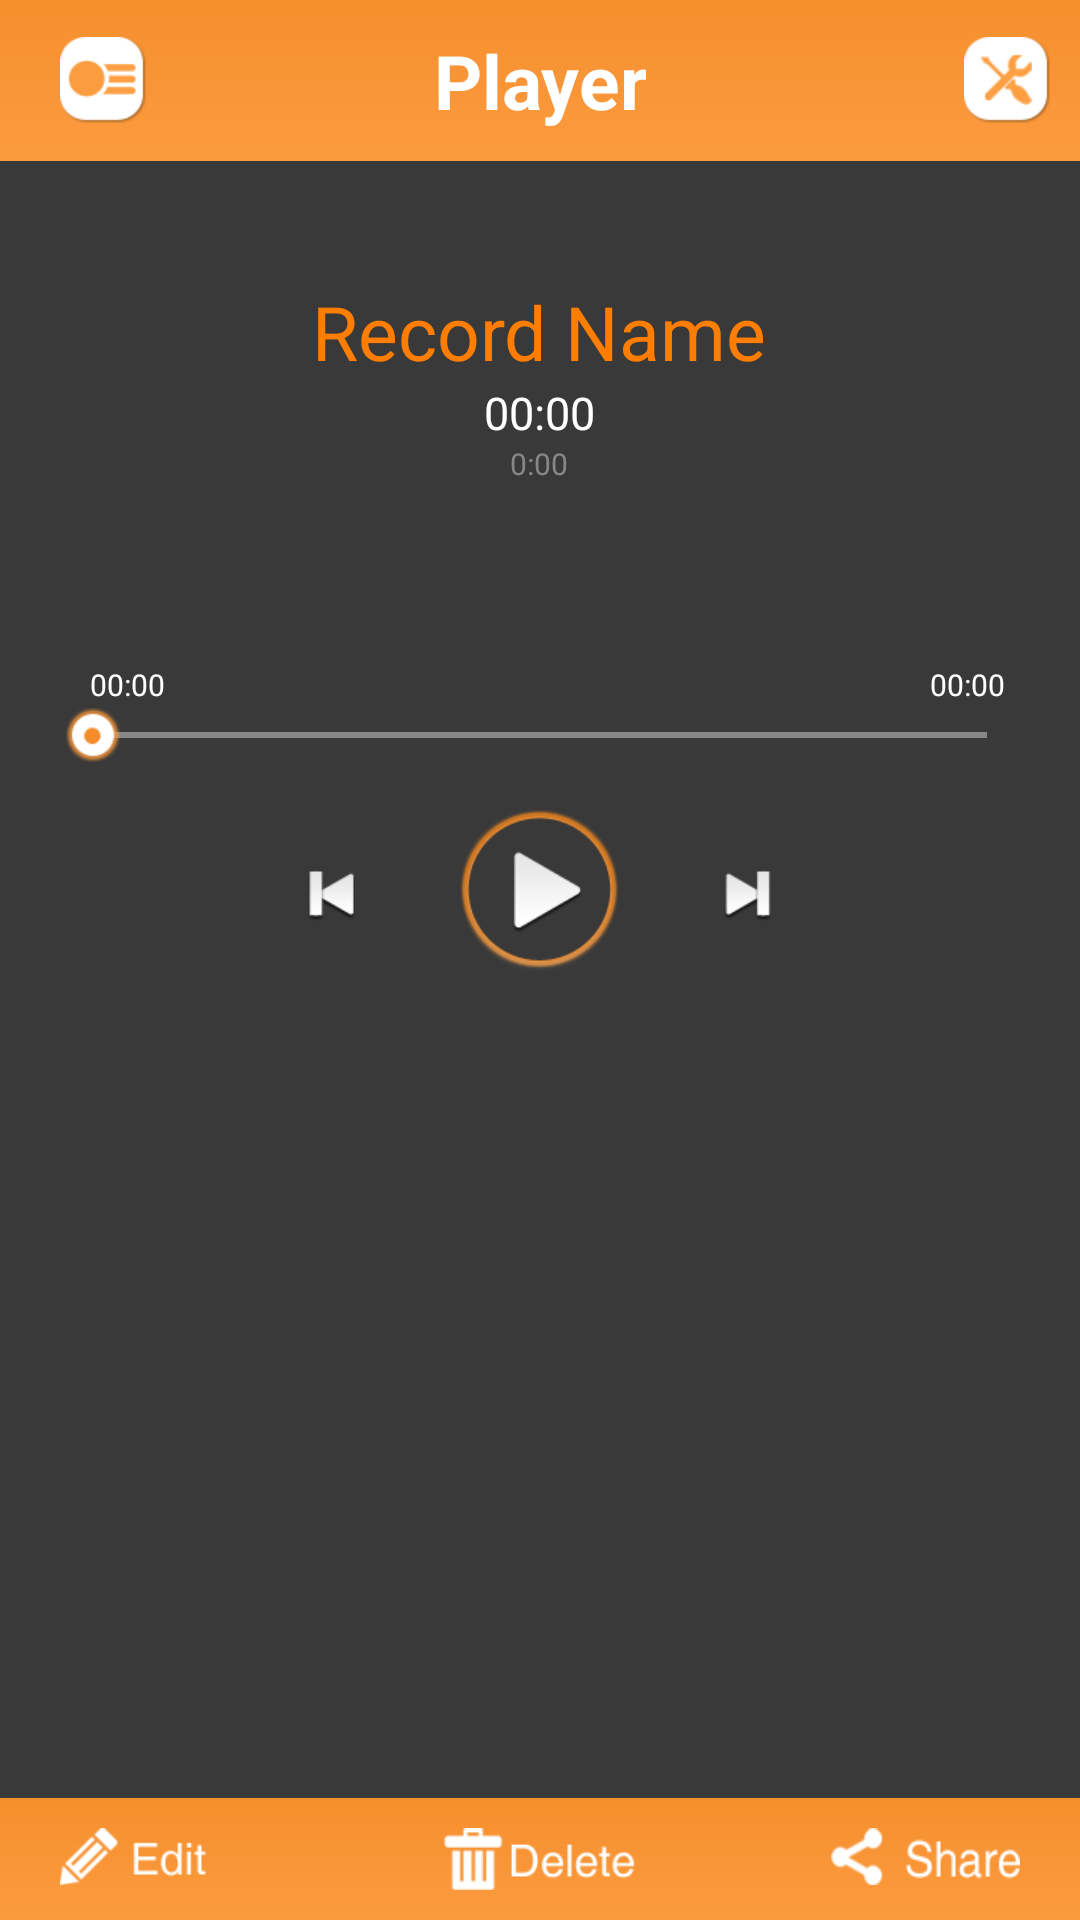

Named icons in this screenshot (1080px x 1920px) and their centers, (x=x, y=y):
listview: (x=102, y=79)
next: (x=747, y=894)
play: (x=539, y=889)
previous: (x=331, y=894)
settings: (x=1006, y=79)
